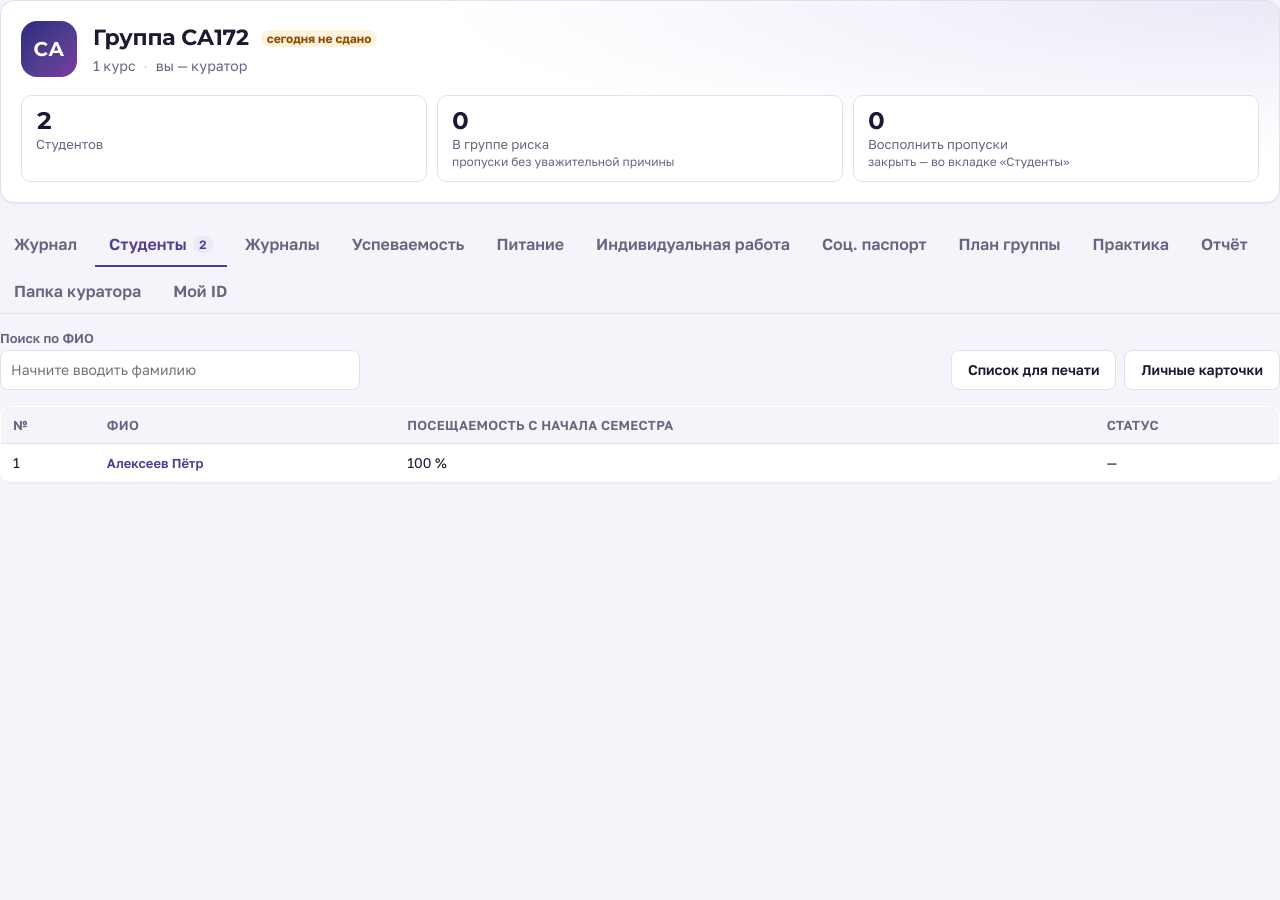
it: CuratorGroupPage — журнал дня › «Список для печати» открывает окно выбора столбцов для текущей группы
The image size is (1280, 900).
Expected: the link "Алексеев Пётр" is shown, [103, 453, 207, 473]
Step 1. Click the button "Список для печати" → point(1034, 370), box [951, 350, 1116, 390]
(page scrolled)
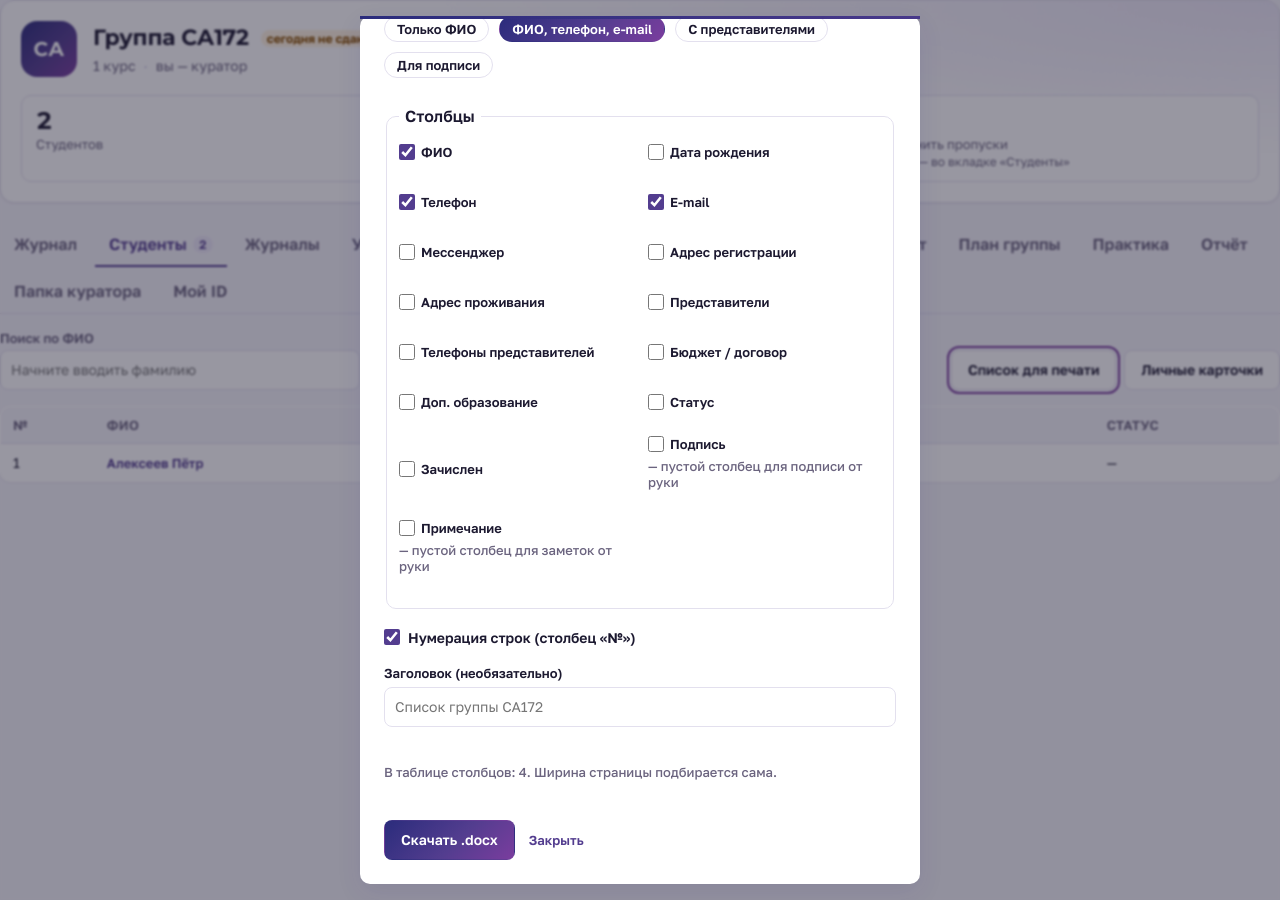
Expected: the button "Скачать .docx" is enabled, [384, 820, 515, 860]
